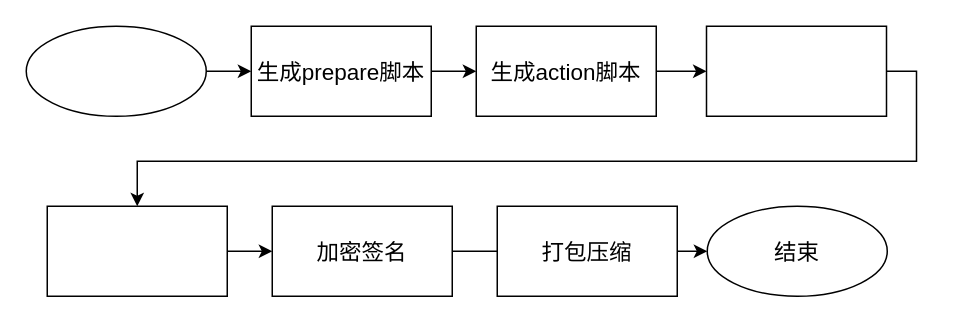
This 956x323 diagram has some shape labels left out. Here are the shapes that lost their labels. From the top down, the centre of each, then its label:
At [115,70]: "开始".
At [795,70]: "生成post脚本".
At [136,250]: "裁剪升级包".
